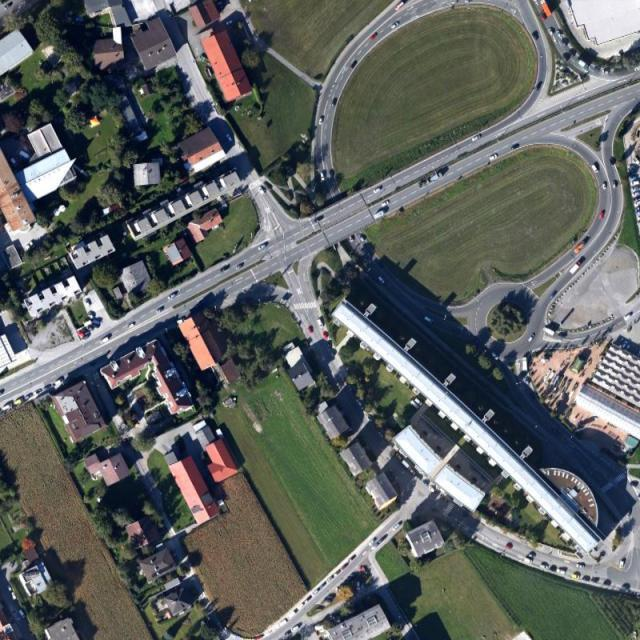vehicle: (416, 171, 444, 189), (570, 262, 582, 275), (576, 58, 590, 69), (574, 242, 586, 254), (286, 626, 300, 636), (372, 540, 383, 550), (543, 327, 555, 336), (623, 312, 633, 322), (374, 211, 385, 220), (395, 1, 405, 10), (84, 298, 92, 308), (350, 60, 358, 70), (592, 164, 600, 174), (318, 318, 325, 329), (391, 22, 400, 30), (13, 398, 22, 406), (489, 154, 498, 162), (527, 334, 535, 343), (168, 292, 177, 300), (222, 265, 231, 273), (100, 337, 110, 344), (524, 558, 534, 565), (235, 263, 245, 270), (367, 539, 375, 547), (511, 142, 519, 150), (358, 234, 366, 242), (258, 243, 267, 250), (54, 379, 63, 386), (472, 135, 481, 142), (2, 405, 12, 411), (536, 81, 542, 91), (556, 569, 566, 575), (380, 201, 390, 207), (370, 33, 378, 40), (426, 316, 434, 323), (550, 291, 558, 298), (6, 2, 14, 9), (92, 319, 101, 325), (549, 28, 554, 38), (619, 561, 626, 568), (632, 191, 640, 197), (44, 384, 52, 390), (308, 326, 314, 334), (322, 330, 328, 338), (374, 188, 382, 194), (533, 32, 539, 40), (562, 38, 568, 46), (603, 580, 611, 586), (599, 211, 604, 220), (572, 575, 581, 580), (630, 482, 639, 487), (576, 564, 585, 569), (631, 181, 640, 186), (88, 312, 94, 319), (378, 277, 385, 283), (570, 50, 577, 56), (128, 322, 135, 328), (528, 553, 536, 558), (634, 197, 640, 203), (36, 388, 42, 394), (526, 377, 530, 386), (506, 543, 512, 549), (593, 577, 599, 583), (26, 394, 33, 399), (393, 525, 400, 530), (542, 565, 549, 570), (550, 566, 557, 571), (155, 309, 162, 314), (321, 173, 325, 181), (635, 202, 640, 208), (584, 576, 590, 581), (88, 326, 95, 330), (603, 183, 607, 190), (602, 70, 609, 74), (633, 186, 640, 190), (635, 66, 640, 71), (333, 100, 337, 106), (319, 118, 322, 125), (558, 31, 561, 38), (614, 181, 616, 189), (637, 212, 640, 217), (638, 217, 640, 222), (466, 1, 470, 3), (638, 494, 640, 498), (533, 1, 538, 2)
